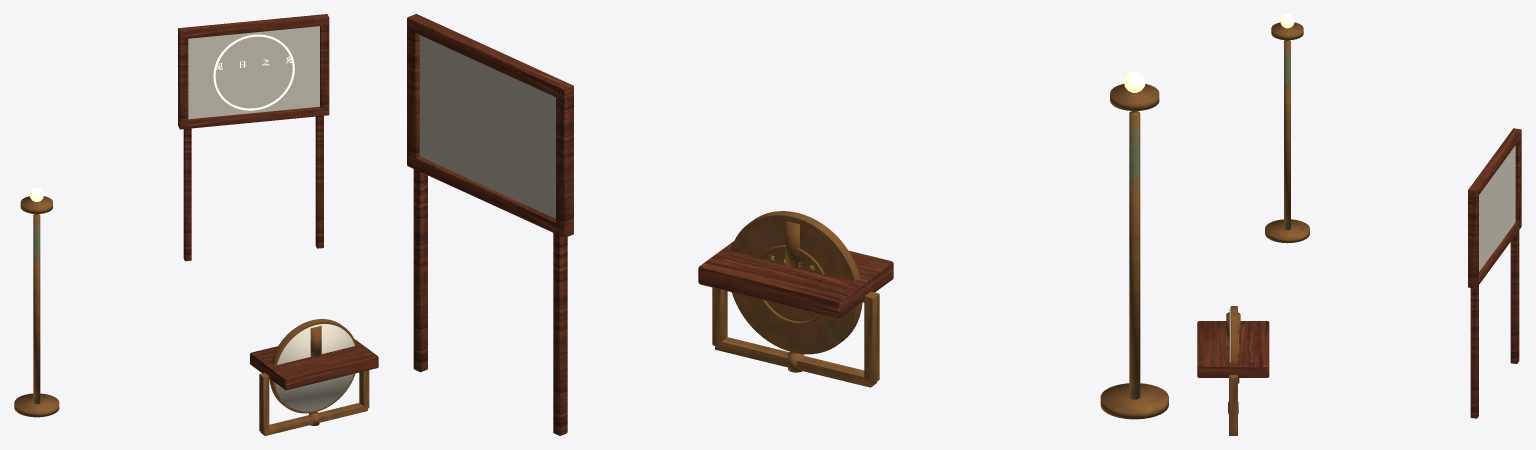
The model's file is mirror.glb.
The picture shows the model from 3 angles, left to right: view 1: azimuth 30°, elevation 25°; view 2: azimuth 150°, elevation 25°; view 3: azimuth 270°, elevation 25°; orthographic projection. The views are drawn at different scales.
Visible parts, largest first — view 1: mr_screen, mr_face, mr_base, mr_lamp, mr_yoke, mr_words; view 2: mr_screen, mr_face, mr_base, mr_lamp, mr_yoke; view 3: mr_screen, mr_base, mr_lamp, mr_yoke, mr_face.
Boxes of the visible parts, box(x1,y1,x2,y2) form: mr_screen: box(178, 14, 329, 261); mr_face: box(269, 319, 356, 413); mr_base: box(250, 325, 378, 390); mr_lamp: box(14, 187, 59, 417); mr_yoke: box(259, 370, 369, 435); mr_words: box(213, 34, 294, 110); mr_screen: box(407, 14, 573, 435); mr_face: box(730, 211, 862, 354); mr_base: box(698, 221, 893, 318); mr_lamp: box(1100, 71, 1168, 419); mr_yoke: box(712, 287, 879, 387); mr_screen: box(1468, 128, 1521, 418); mr_base: box(1197, 312, 1269, 377); mr_lamp: box(1265, 14, 1309, 243); mr_yoke: box(1228, 374, 1238, 435); mr_face: box(1229, 306, 1239, 383).
Bounding box in the file's own units: 0.5174 × 0.352 × 0.3597.
Materials: 8 (4 with a texture image).
